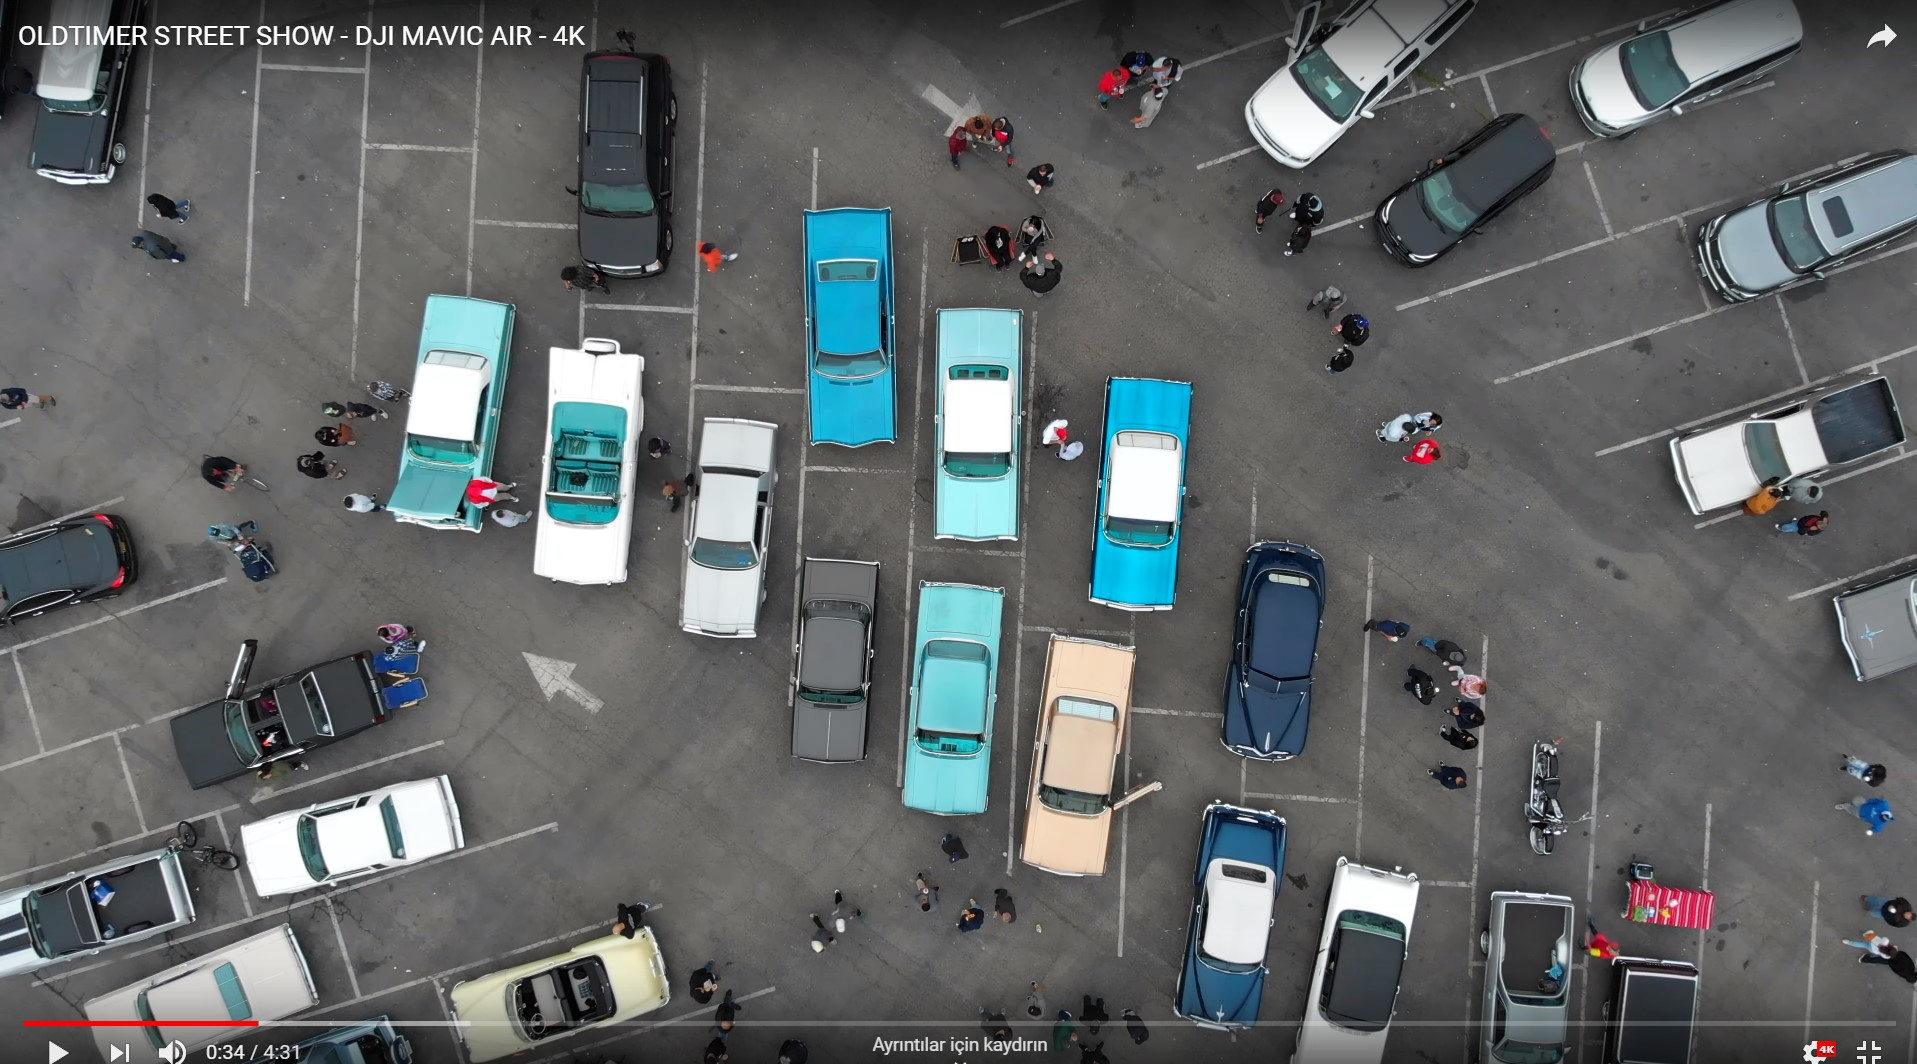araba: (1225, 7, 1486, 172), (1558, 2, 1809, 160), (385, 285, 523, 544), (74, 923, 323, 1064), (1699, 143, 1917, 304), (1666, 384, 1905, 527), (445, 927, 671, 1064), (229, 768, 475, 894), (172, 653, 390, 794), (571, 29, 692, 278), (1355, 122, 1561, 261), (1034, 623, 1139, 892), (800, 196, 909, 455), (1290, 850, 1418, 1064), (1162, 782, 1271, 1031), (1086, 368, 1195, 615), (531, 333, 633, 590), (1219, 531, 1329, 763), (10, 840, 193, 978), (902, 576, 1005, 816), (929, 305, 1027, 546), (674, 419, 774, 641), (790, 541, 885, 770), (28, 1, 132, 194), (1473, 884, 1584, 1064), (1, 513, 130, 635), (1827, 560, 1917, 680), (1606, 938, 1693, 1064)
insan: (195, 450, 275, 504), (1844, 931, 1917, 984), (1840, 788, 1897, 845), (144, 188, 208, 234), (130, 218, 190, 267), (373, 616, 427, 668), (1858, 880, 1914, 929), (320, 393, 387, 428), (454, 467, 520, 502), (1582, 919, 1632, 966), (554, 257, 611, 297), (606, 900, 654, 946), (1020, 256, 1071, 299), (206, 511, 261, 551), (296, 443, 346, 486), (1133, 82, 1171, 138), (1, 382, 57, 419), (1248, 181, 1285, 235), (1421, 625, 1470, 666), (1746, 476, 1791, 519), (310, 420, 361, 458), (1285, 183, 1329, 228), (345, 485, 390, 525), (691, 240, 739, 278), (974, 1002, 1016, 1046), (1451, 668, 1500, 704), (1011, 215, 1053, 255), (1362, 612, 1411, 646), (1782, 504, 1832, 538), (1427, 758, 1471, 794), (363, 374, 413, 406), (804, 906, 836, 956), (1402, 660, 1443, 700), (1304, 279, 1345, 318), (908, 870, 943, 914), (951, 899, 989, 940), (1151, 53, 1191, 90), (1093, 65, 1129, 107), (1838, 752, 1882, 788), (993, 114, 1022, 167), (491, 507, 538, 539), (1331, 313, 1378, 344), (1437, 719, 1481, 753), (686, 961, 719, 1005), (983, 222, 1013, 268), (711, 992, 743, 1036), (1408, 441, 1457, 471), (1287, 217, 1324, 256), (1409, 403, 1451, 436), (991, 883, 1020, 931), (1783, 479, 1830, 509), (1372, 415, 1417, 445), (943, 122, 973, 166), (1446, 695, 1492, 723), (1080, 995, 1108, 1039), (1051, 1008, 1078, 1053), (937, 833, 974, 867), (1121, 44, 1152, 84), (1318, 343, 1360, 371), (1021, 162, 1057, 194), (828, 891, 858, 929), (1037, 413, 1070, 445), (1123, 1007, 1147, 1048), (1025, 983, 1048, 1025), (1052, 437, 1086, 466), (964, 112, 995, 141), (280, 753, 316, 773), (255, 761, 278, 789)
